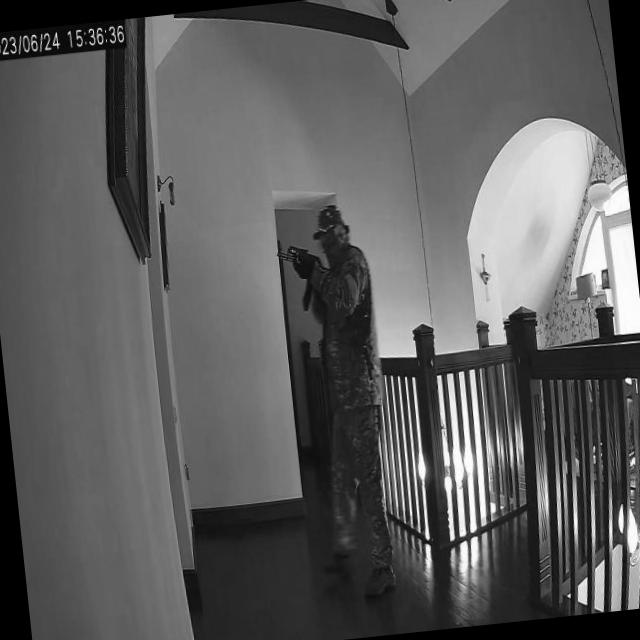gun: (276, 231, 330, 294)
person with a gun: (273, 195, 409, 604)
